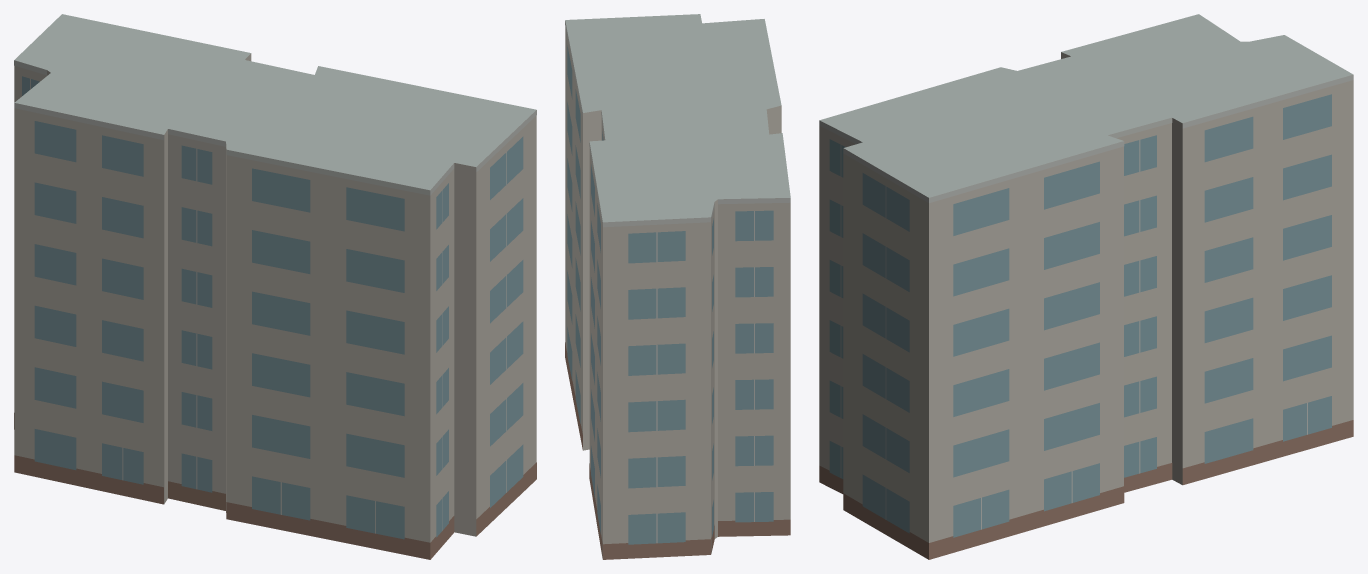
Rendered from survey-upis-32679388.glb.
The picture shows the model from 3 angles, left to right: view 1: azimuth 30°, elevation 25°; view 2: azimuth 150°, elevation 25°; view 3: azimuth 270°, elevation 25°; orthographic projection. The views are drawn at different scales.
Visible parts, largest first — view 1: survey-upis-32679388.tmp; view 2: survey-upis-32679388.tmp; view 3: survey-upis-32679388.tmp.
Part boxes in pixels (x1,y1,x2,y2): survey-upis-32679388.tmp: (14,14,536,559); survey-upis-32679388.tmp: (565,14,790,559); survey-upis-32679388.tmp: (819,14,1353,559).
Size of the model in its own units: 18.1 by 16.6 by 22.22.
